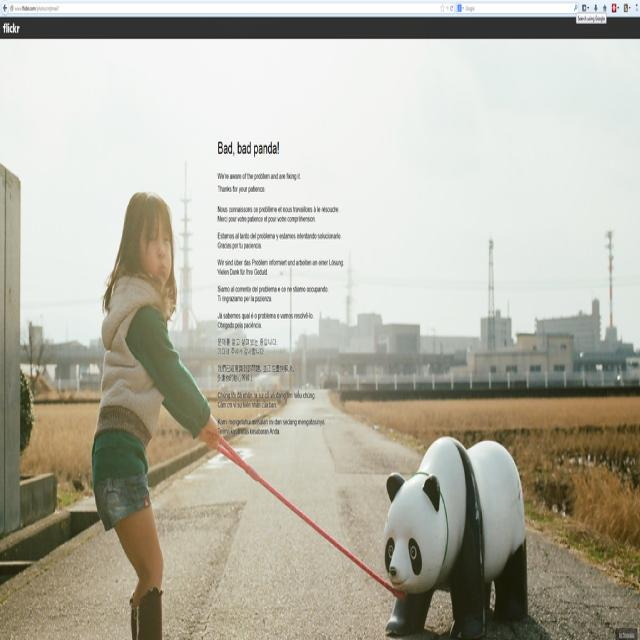panda: (385, 439, 528, 639)
